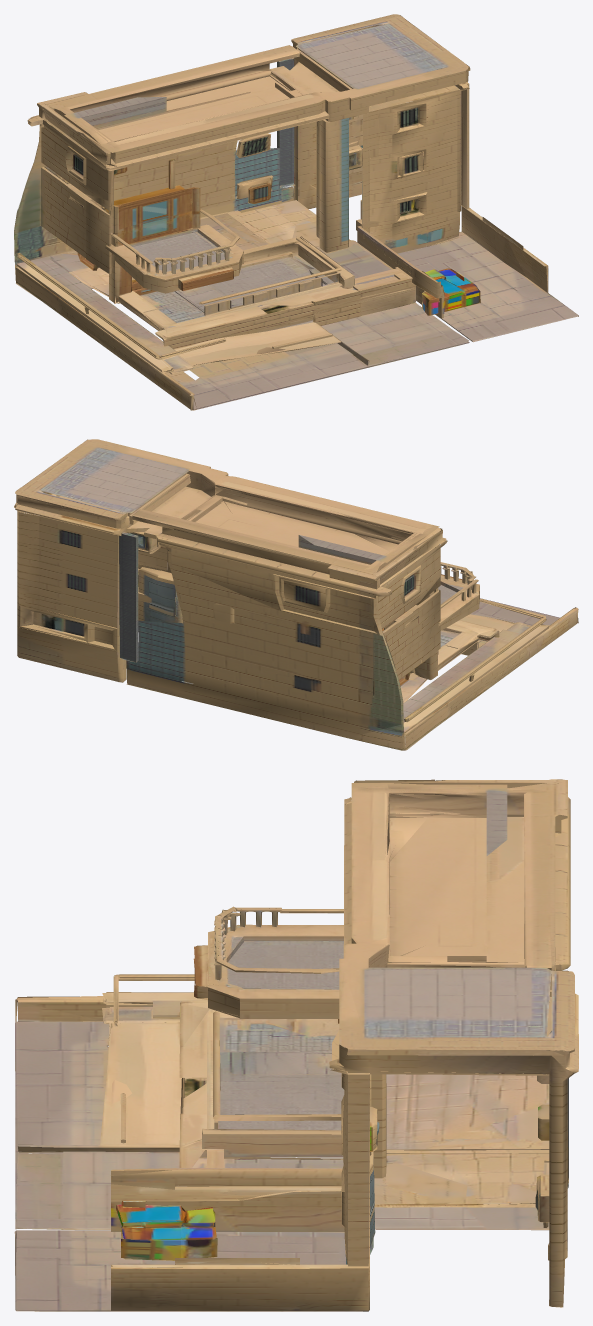
The model's file is placed_bld_556597975.glb.
3 renders of one model, top to bottom at view 1: azimuth 30°, elevation 25°; view 2: azimuth 150°, elevation 25°; view 3: azimuth 270°, elevation 25°, orthographic. The views are drawn at different scales.
Visible parts, largest first — view 1: bld_556597975; view 2: bld_556597975; view 3: bld_556597975.
Boxes of the visible parts, box(x1,y1,x2,y2) form: bld_556597975: box(14, 14, 578, 410); bld_556597975: box(14, 439, 578, 750); bld_556597975: box(14, 779, 578, 1311).
Size of the model in its own units: 23.41 by 9.8 by 19.15.
Materials: 1 (1 with a texture image).
